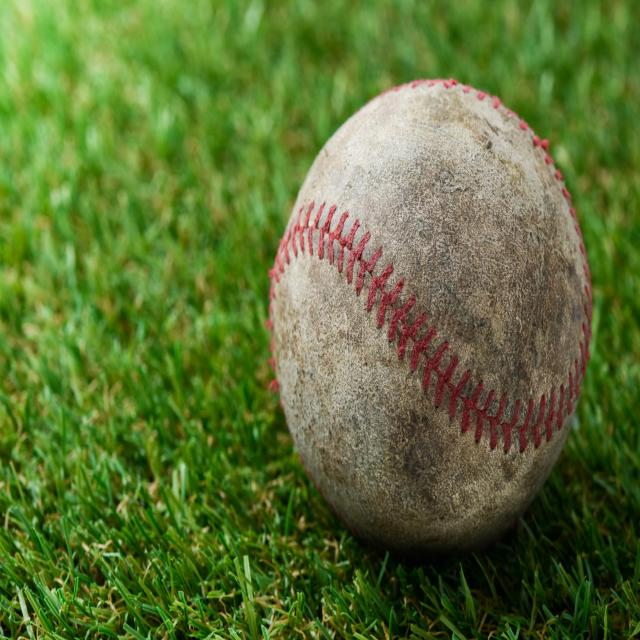baseball: (267, 78, 593, 567)
